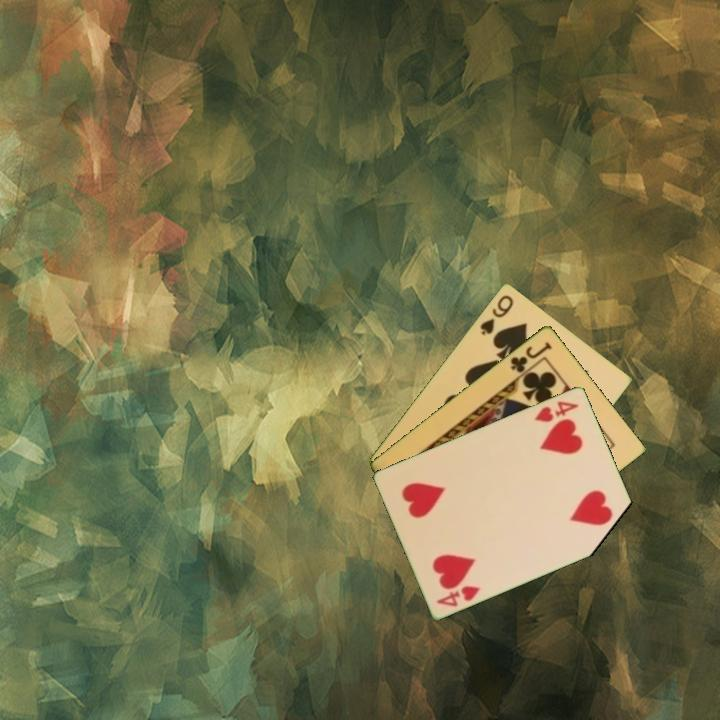4h: (531, 397, 582, 425), (433, 582, 483, 609)
9s: (476, 291, 516, 338)
Jc: (507, 338, 555, 376)
